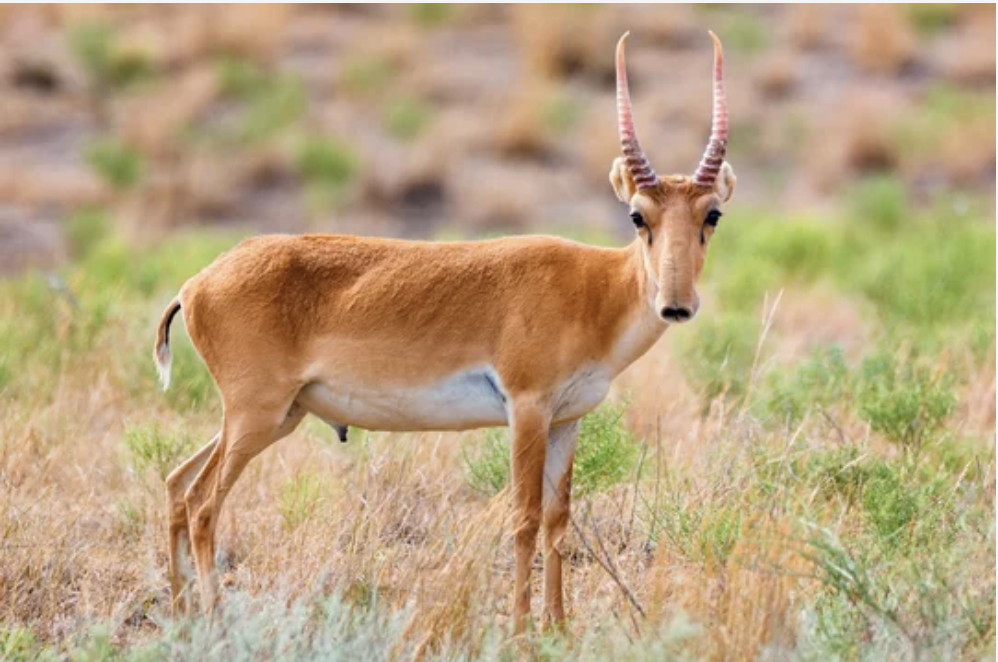saiga: (126, 39, 747, 652)
